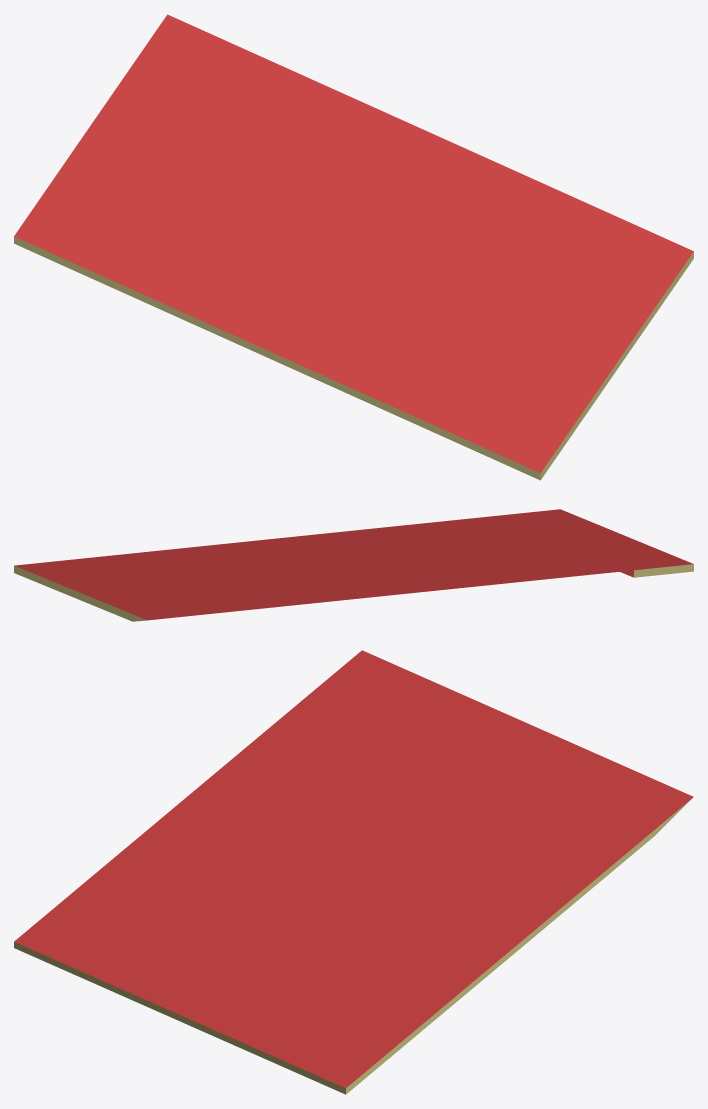
3 renders of one model, top to bottom at view 1: azimuth 30°, elevation 25°; view 2: azimuth 150°, elevation 25°; view 3: azimuth 270°, elevation 25°, orthographic. The views are drawn at different scales.
Size of the model in its own units: 9.68 by 9.68 by 2.47.
